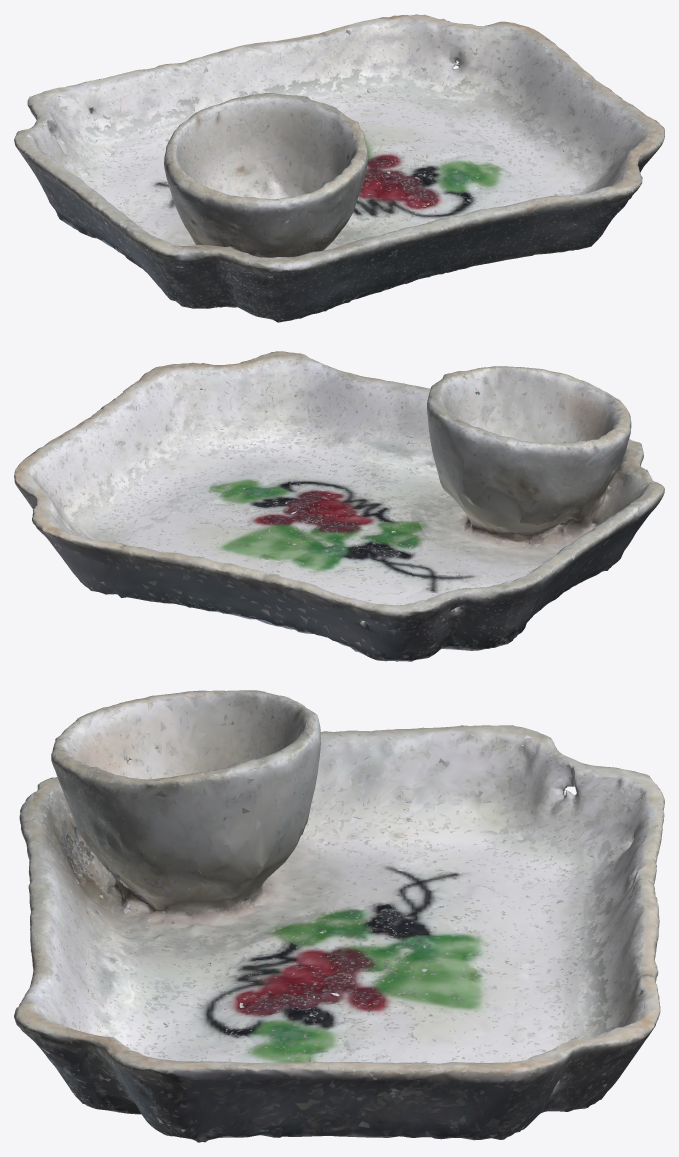
File: 1205_Ceramics_set3.glb
3 renders of one model, top to bottom at view 1: azimuth 30°, elevation 25°; view 2: azimuth 150°, elevation 25°; view 3: azimuth 270°, elevation 25°, orthographic. The views are drawn at different scales.
Visible parts, largest first — view 1: _ceramics_set3:Group_Global; view 2: _ceramics_set3:Group_Global; view 3: _ceramics_set3:Group_Global.
Part boxes in pixels (box(x1,y1,x2,y2)): _ceramics_set3:Group_Global: box(14, 14, 664, 322); _ceramics_set3:Group_Global: box(14, 351, 664, 661); _ceramics_set3:Group_Global: box(14, 690, 664, 1142).
Bounding box in the file's own units: 0.0197 × 0.00562 × 0.0161.
Materials: 1 (1 with a texture image).
